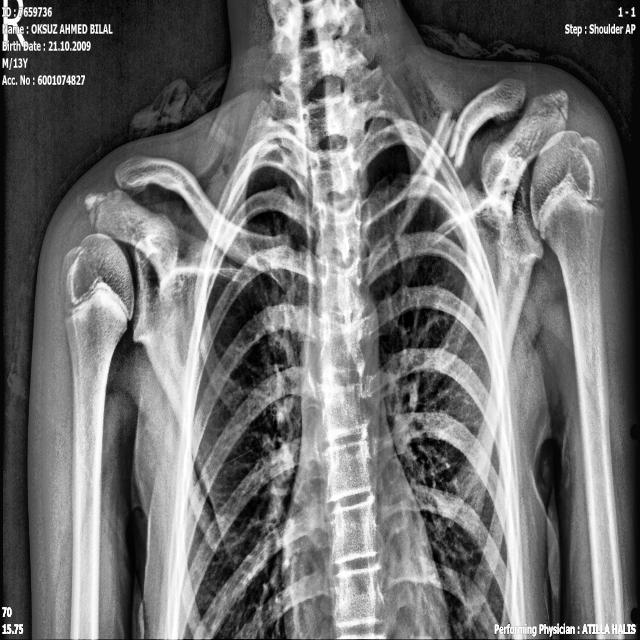Fracture: (432, 86, 471, 176)
